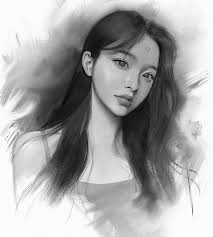asian_female: (71, 12, 164, 125)
